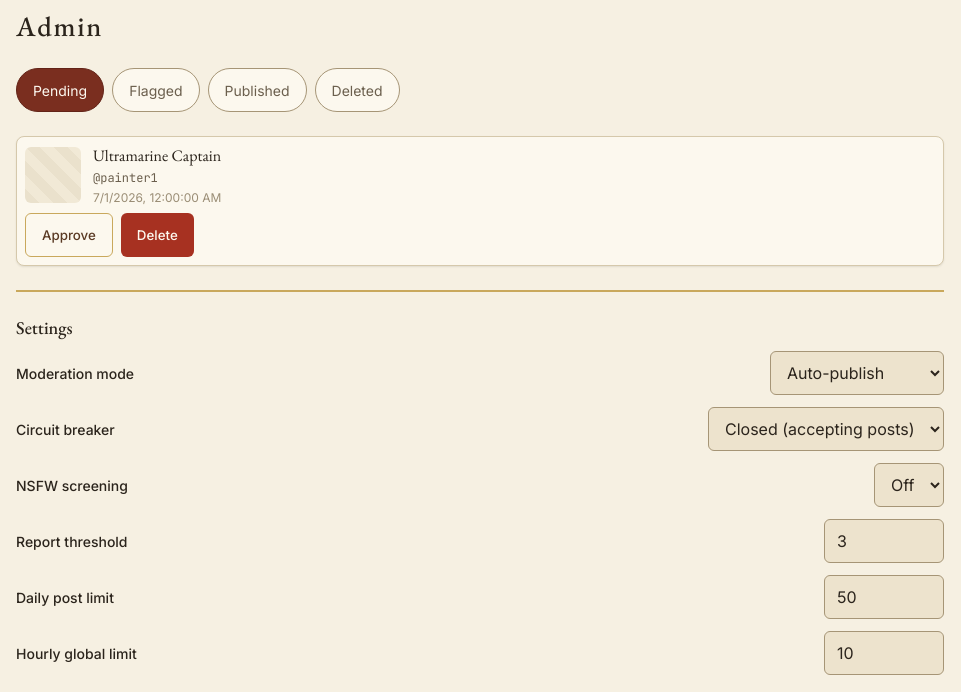
Scenario: AdminPage › 承認ボタン→POST approve→一覧再取得
The width and height of the screenshot is (961, 692).
Check: the text "Ultramarine Captain" is shown, box [93,145,221,166]
Click the button "Approve" at x=69, y=235, box [25,213,113,257]
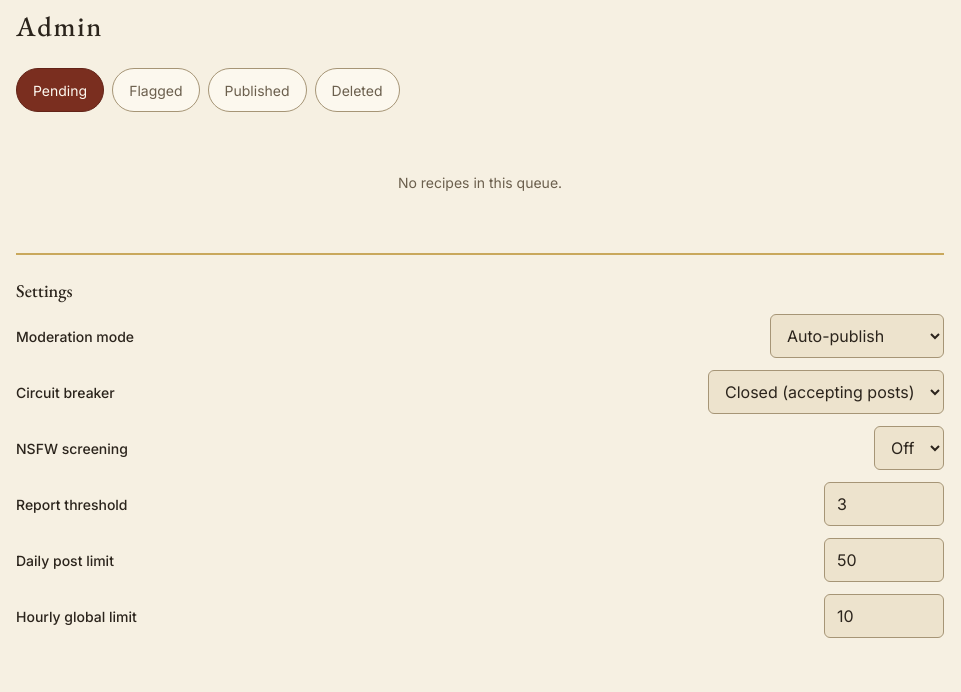
Check: the button "Ultramarine Captain" is gone
